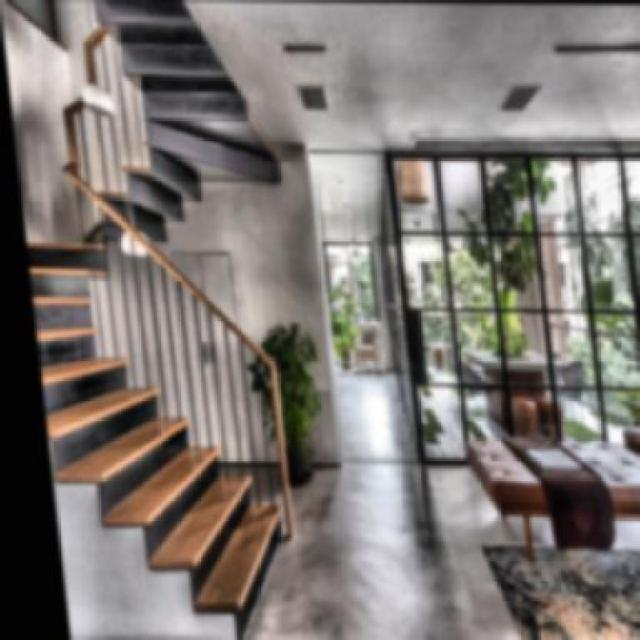stair: (19, 236, 296, 638)
